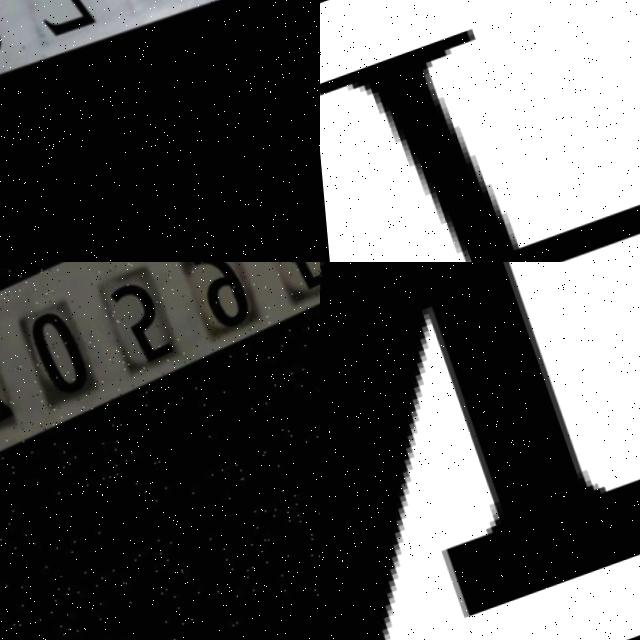0: (0, 297, 103, 423)
5: (80, 270, 184, 391), (241, 262, 320, 323), (97, 0, 180, 23)
7: (6, 0, 95, 54)
9: (159, 262, 263, 361)
H: (320, 32, 640, 262)
N: (320, 262, 640, 640)
